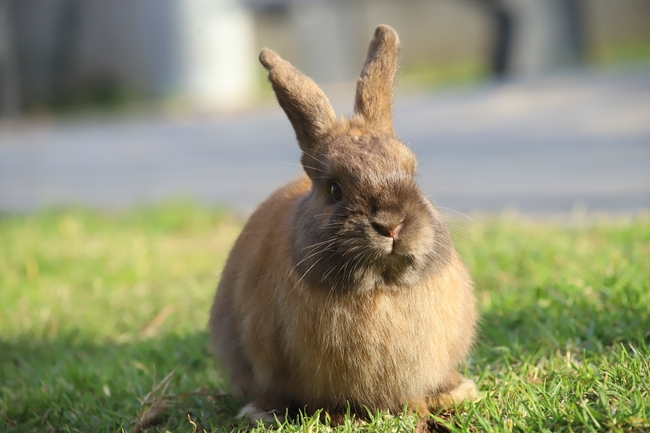rabbit: (208, 25, 497, 415)
